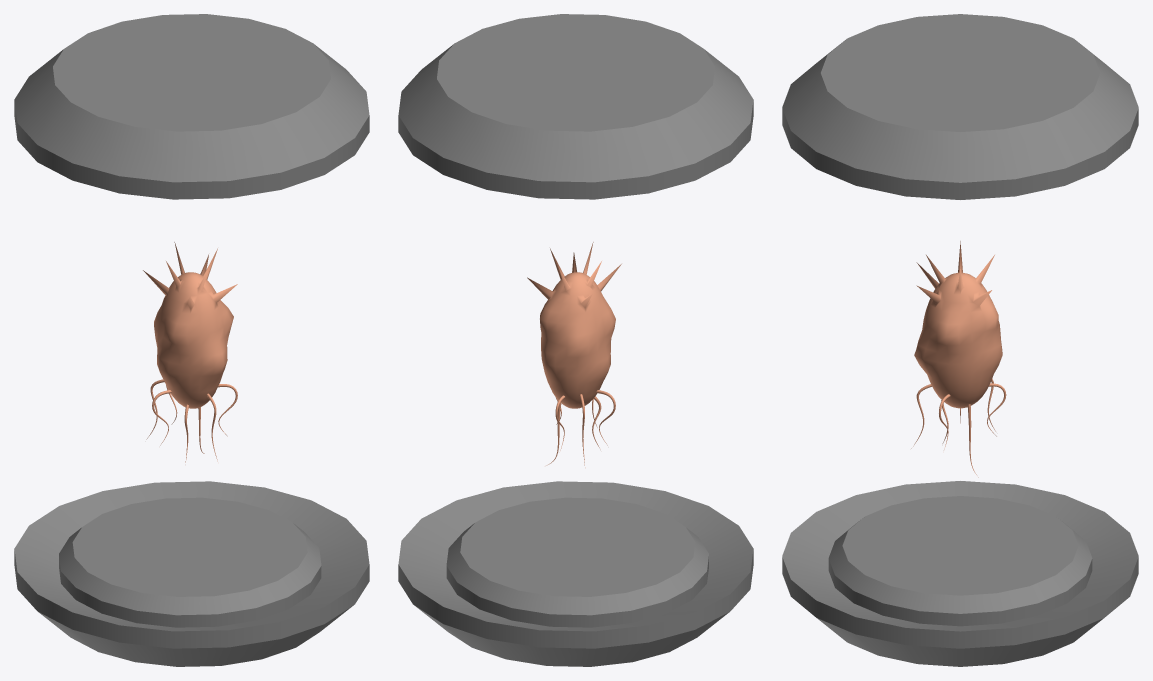
File: Seed.obj
The picture shows the model from 3 angles, left to right: view 1: azimuth 30°, elevation 25°; view 2: azimuth 150°, elevation 25°; view 3: azimuth 270°, elevation 25°; orthographic projection.
Visible parts, largest first — view 1: sweep4; view 2: sweep4; view 3: sweep4.
Boxes of the visible parts, left/top/right/bottom form: sweep4: left=14, top=14, right=369, bottom=666; sweep4: left=398, top=14, right=753, bottom=666; sweep4: left=782, top=14, right=1138, bottom=666.
Bounding box in the file's own units: 2.12 × 3.5 × 2.12.
